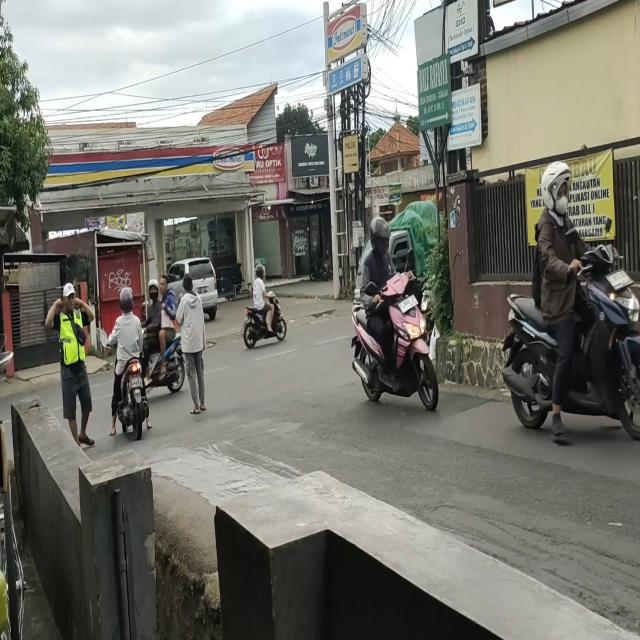helmet: (540, 165, 571, 215), (370, 218, 390, 250), (147, 281, 159, 305), (120, 289, 133, 311), (257, 266, 264, 278)
no-helmet: (161, 276, 167, 292)
